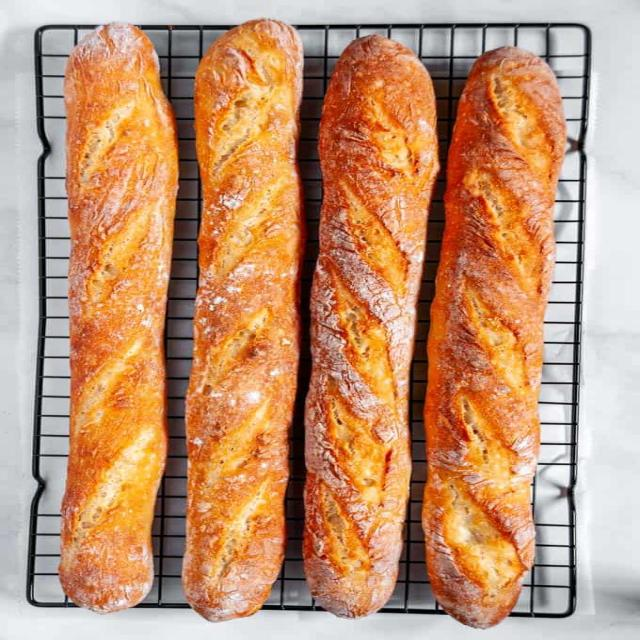Baguette: (422, 48, 566, 629), (302, 36, 438, 618), (182, 19, 302, 621), (59, 24, 178, 611)
